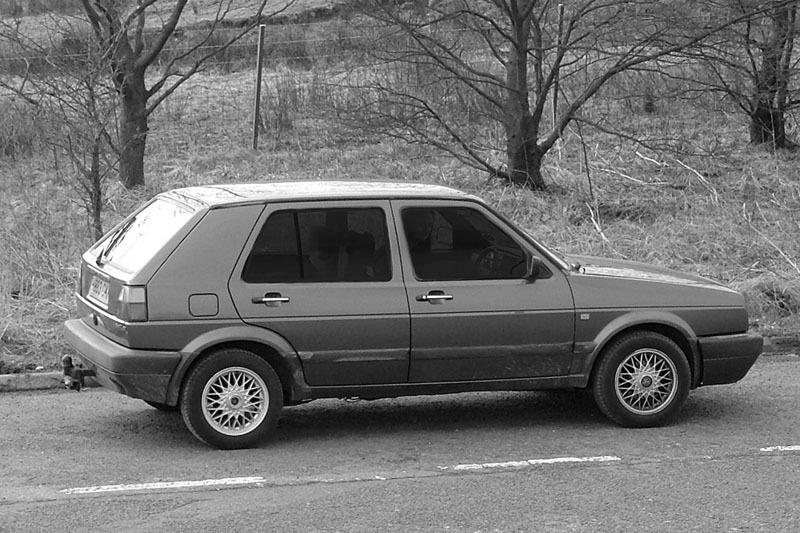car: (64, 182, 768, 451)
